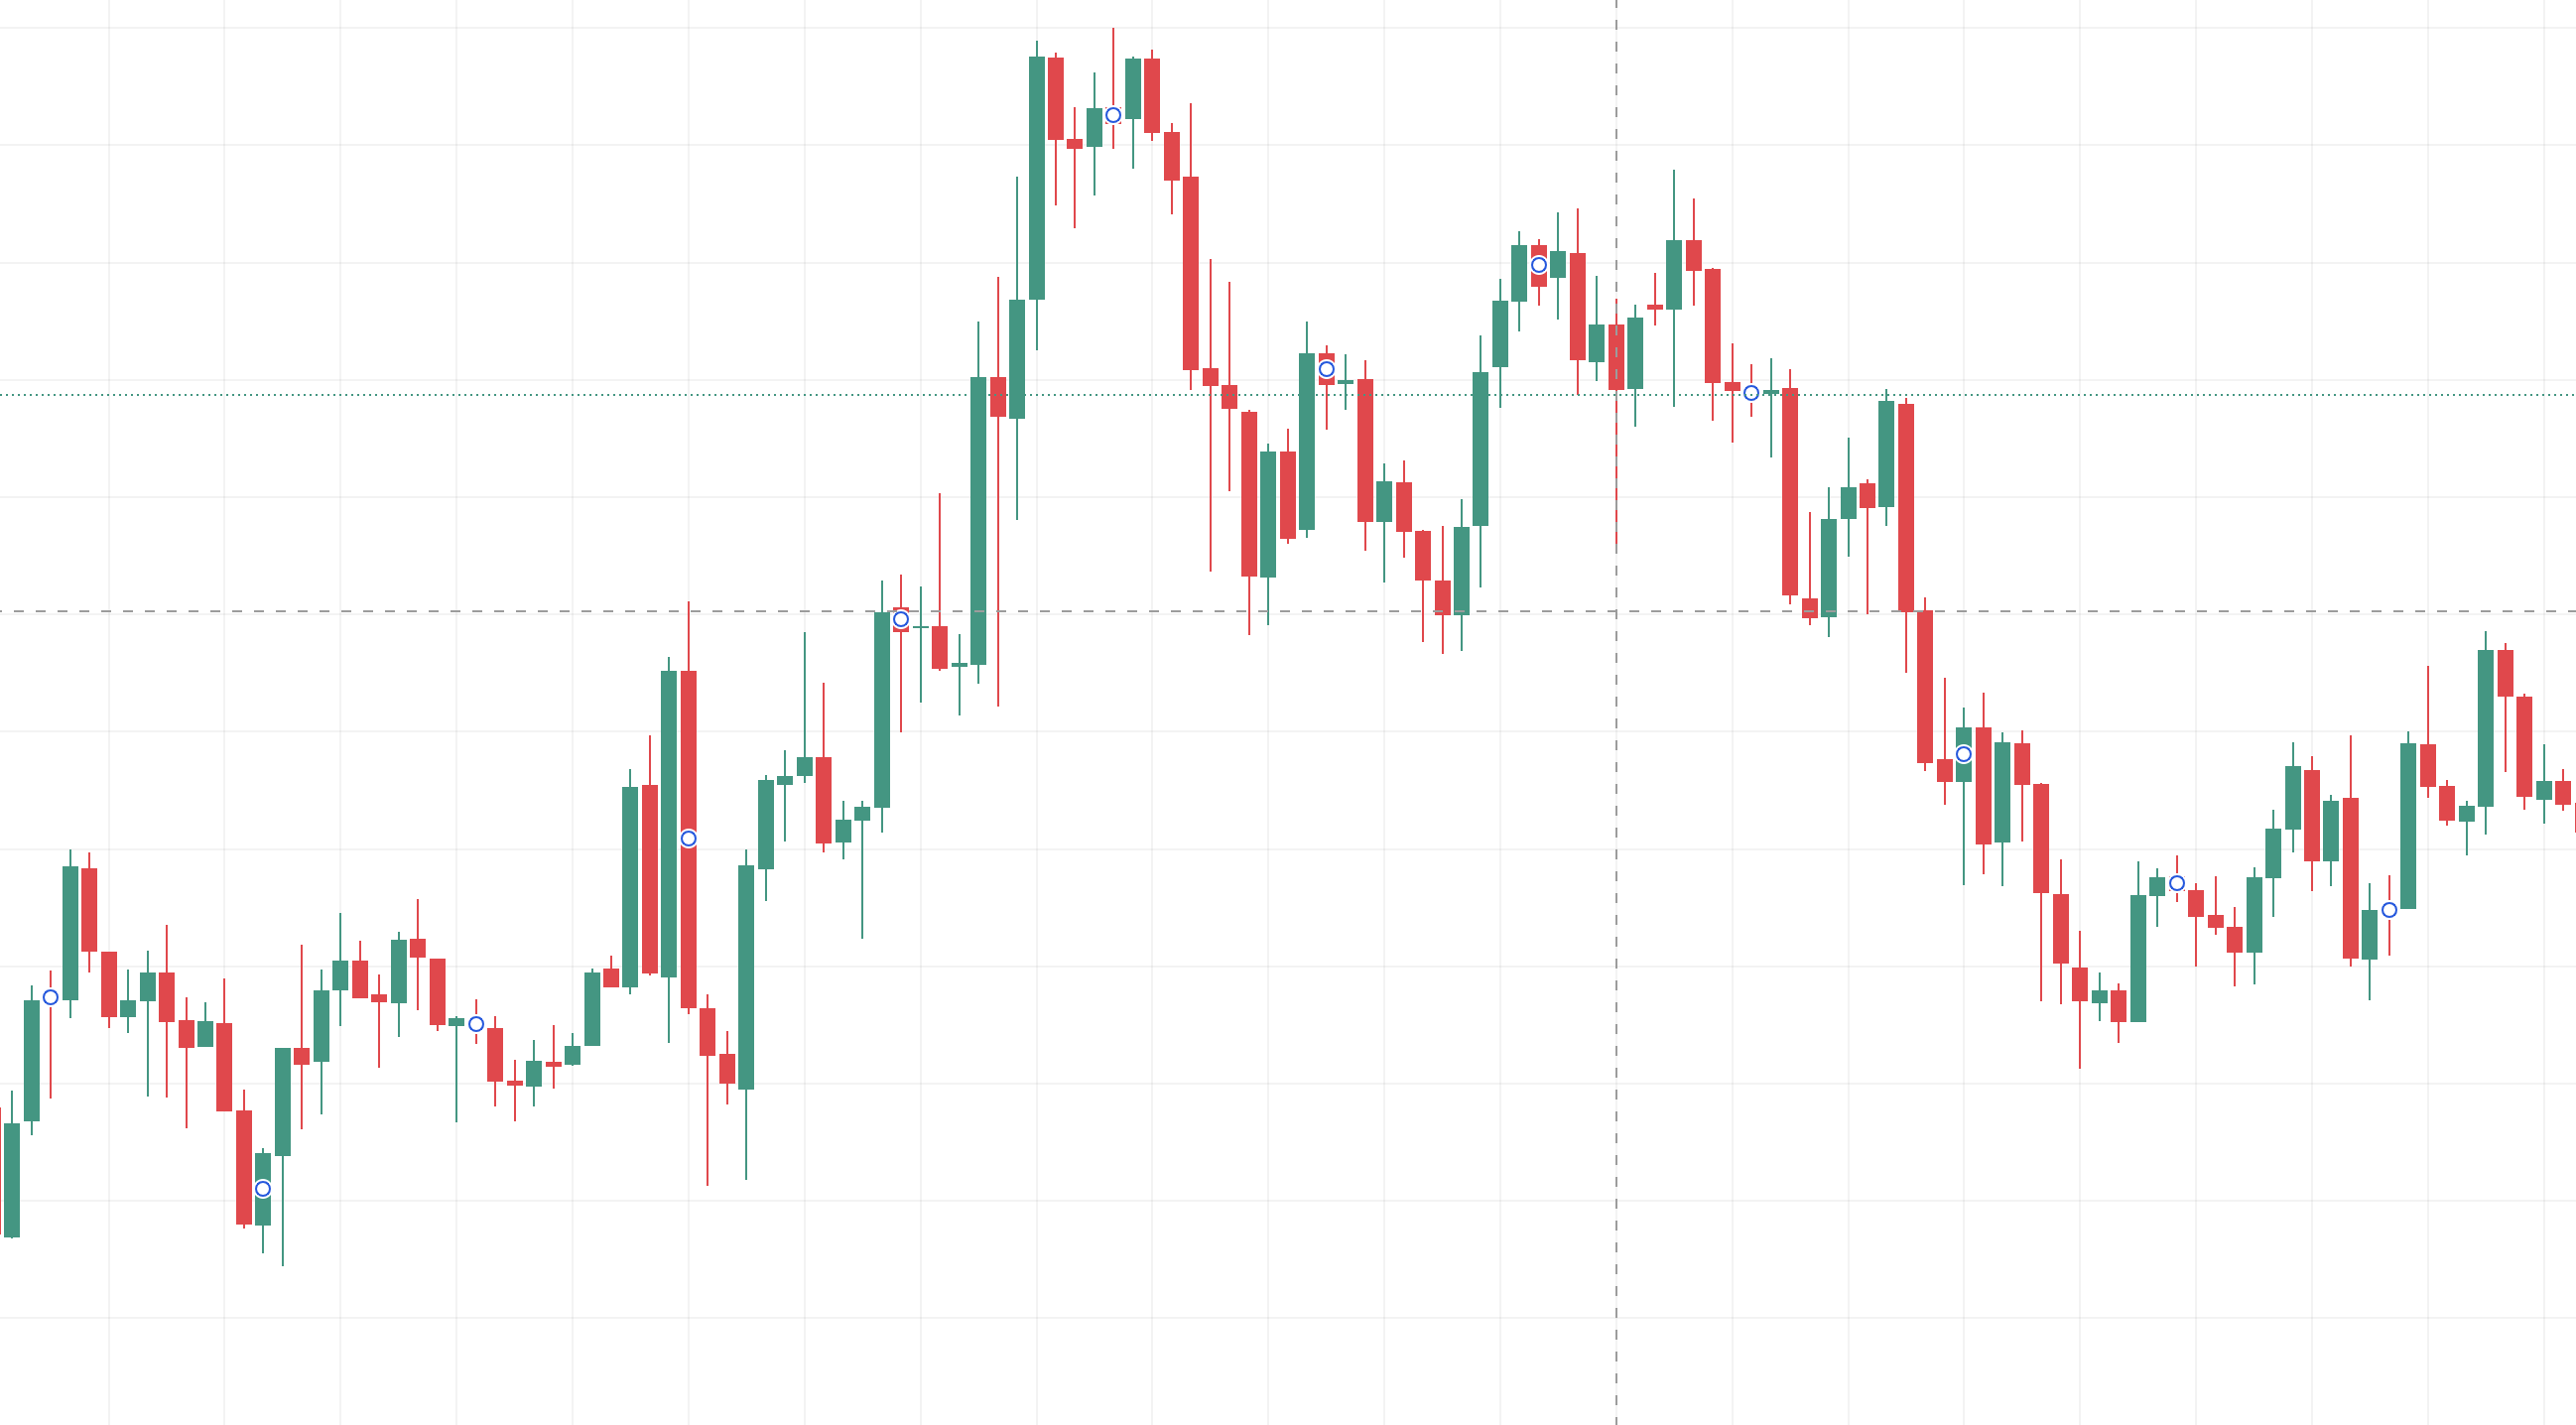V-turn: (1128, 3, 1333, 646)
